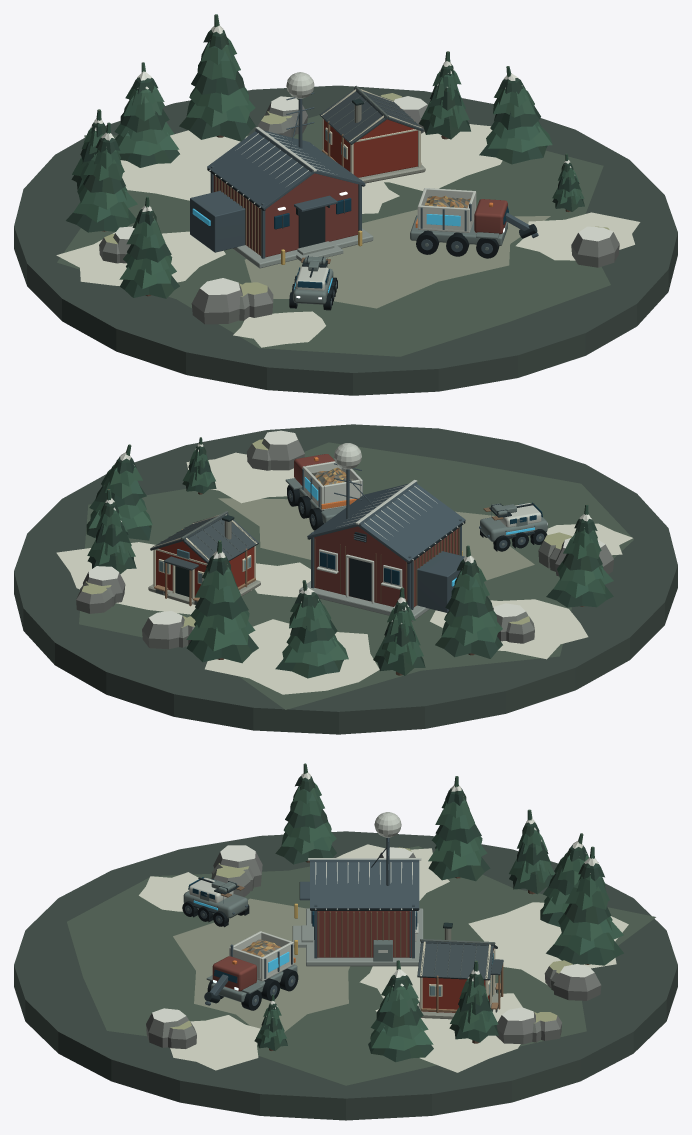
Rendered from command-post.glb.
3 views of the same model, one above another, from view 1: azimuth 30°, elevation 25°; view 2: azimuth 150°, elevation 25°; view 3: azimuth 270°, elevation 25° (orthographic). The views are drawn at different scales.
Visible parts, largest first — view 1: Granite island, Heath, Dispatch yard, Downpipe, barracks_body, spruce_coastal_mesh.001, Timber gable, Snow drift.002, spruce_coastal_mesh, spruce_windswept_mesh, spruce_windswept_mesh.001, Snow drift.001 (+23 smaller); view 2: Granite island, Heath, Downpipe, barracks_body, Snow drift.002, Dispatch yard, spruce_coastal_mesh.001, spruce_coastal_mesh, Timber gable, spruce_windswept_mesh, spruce_coastal_mesh.002, Snow drift.001 (+23 smaller); view 3: Granite island, Heath, Dispatch yard, Downpipe, barracks_body, spruce_coastal_mesh.001, Snow drift.002, spruce_windswept_mesh.001, spruce_coastal_mesh, Timber gable, spruce_coastal_mesh.002, Snow drift.003 (+22 smaller).
Boxes of the visible parts, x1,y1,x2,y2 form: Granite island: (14, 85, 677, 395); Heath: (57, 115, 610, 356); Dispatch yard: (244, 209, 550, 308); Downpipe: (190, 92, 365, 258); barracks_body: (319, 85, 425, 183); spruce_coastal_mesh.001: (179, 14, 255, 141); Timber gable: (213, 173, 358, 257); Snow drift.002: (120, 130, 247, 200); spruce_coastal_mesh: (66, 122, 137, 232); spruce_windswept_mesh: (114, 62, 179, 167); spruce_windswept_mesh.001: (479, 66, 552, 164); Snow drift.001: (372, 124, 502, 190); Granite island: (14, 424, 677, 734); Heath: (79, 442, 633, 709); Downpipe: (307, 463, 465, 612); barracks_body: (148, 511, 260, 606); Snow drift.002: (205, 619, 379, 694); Dispatch yard: (218, 498, 534, 580); spruce_coastal_mesh.001: (186, 540, 258, 663); spruce_coastal_mesh: (435, 545, 502, 658); Timber gable: (314, 526, 457, 606); spruce_windswept_mesh: (275, 580, 348, 678); spruce_coastal_mesh.002: (546, 504, 613, 607); Snow drift.001: (56, 542, 251, 614); Granite island: (14, 831, 677, 1120); Heath: (67, 846, 655, 1085); Dispatch yard: (173, 898, 349, 1032); Downpipe: (299, 837, 419, 958); barracks_body: (417, 922, 503, 1019); spruce_coastal_mesh.001: (546, 846, 623, 965); Snow drift.002: (468, 902, 628, 984); spruce_windswept_mesh.001: (368, 960, 433, 1062); spruce_coastal_mesh: (428, 776, 490, 881); Timber gable: (317, 911, 411, 957); spruce_coastal_mesh.002: (275, 763, 336, 864); Snow drift.003: (170, 1015, 260, 1070).
Size of the model in its own units: 34 by 9.63 by 35.7.
